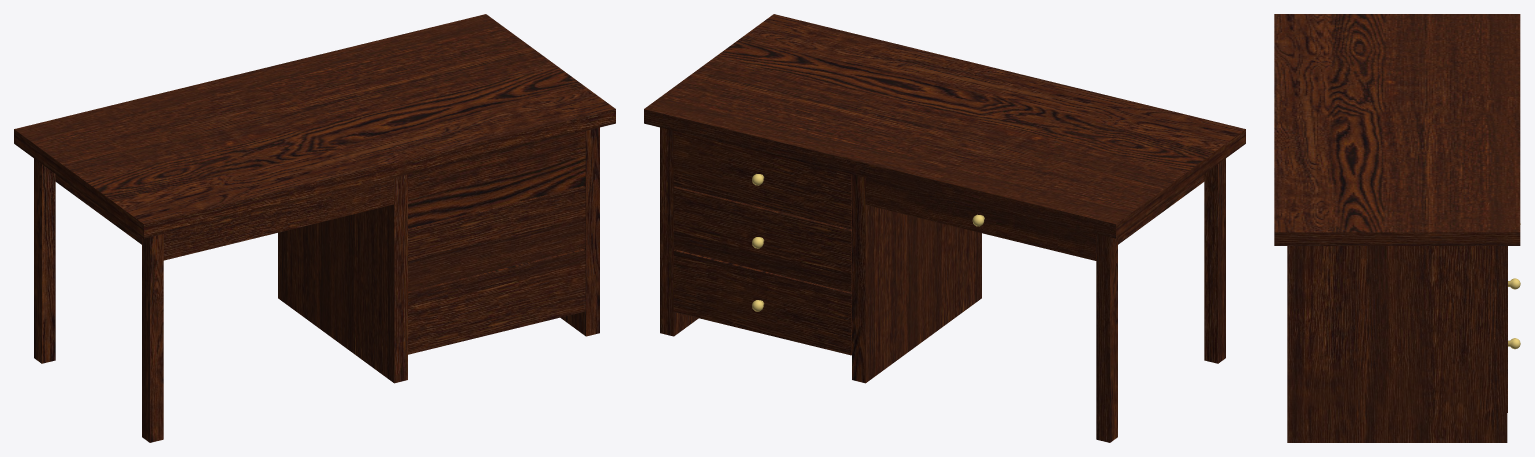
The model's file is tableShort.fbx.
3 views of the same model, side by side, from view 1: azimuth 30°, elevation 25°; view 2: azimuth 150°, elevation 25°; view 3: azimuth 270°, elevation 25° (orthographic). The views are drawn at different scales.
Parts seen in each view (by area): view 1: TableShapekeys; view 2: TableShapekeys; view 3: TableShapekeys.
Part boxes in pixels (x1,y1,x2,y2): TableShapekeys: [14, 14, 615, 442]; TableShapekeys: [644, 14, 1245, 442]; TableShapekeys: [1274, 14, 1520, 442].
Bounding box in the file's own units: 194 × 89.15 × 92.62.
